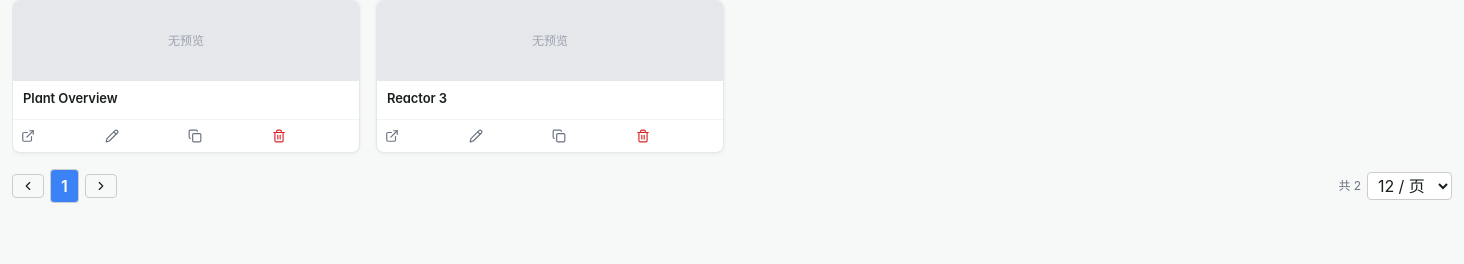
Test: ViewListPanel › delete failure shows banner (cards mode)
Click the button with test id "view-card-delete-btn" below "Reactor 3".
click(675, 136)  # box x1=636 y1=126 x2=715 y2=146
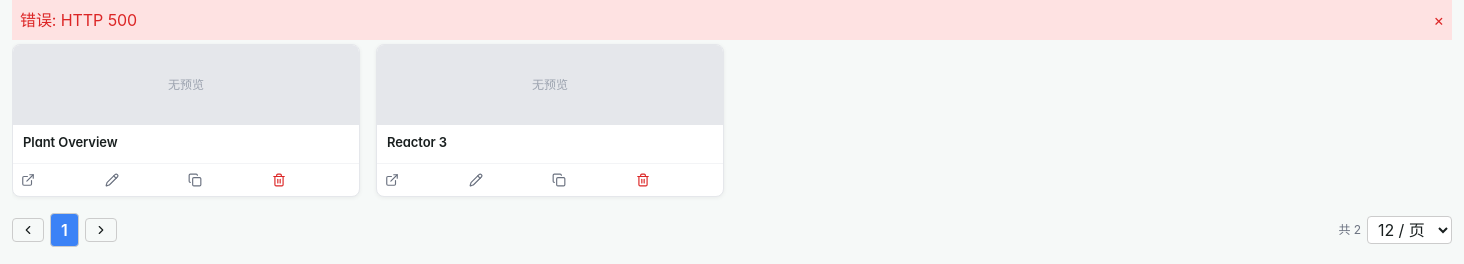
Expected: the text "Reactor 3" is shown, x1=387 y1=134 x2=447 y2=150
Expected: the element with test id "mutation-error-banner" shows "HTTP 500", x1=61 y1=10 x2=137 y2=30
